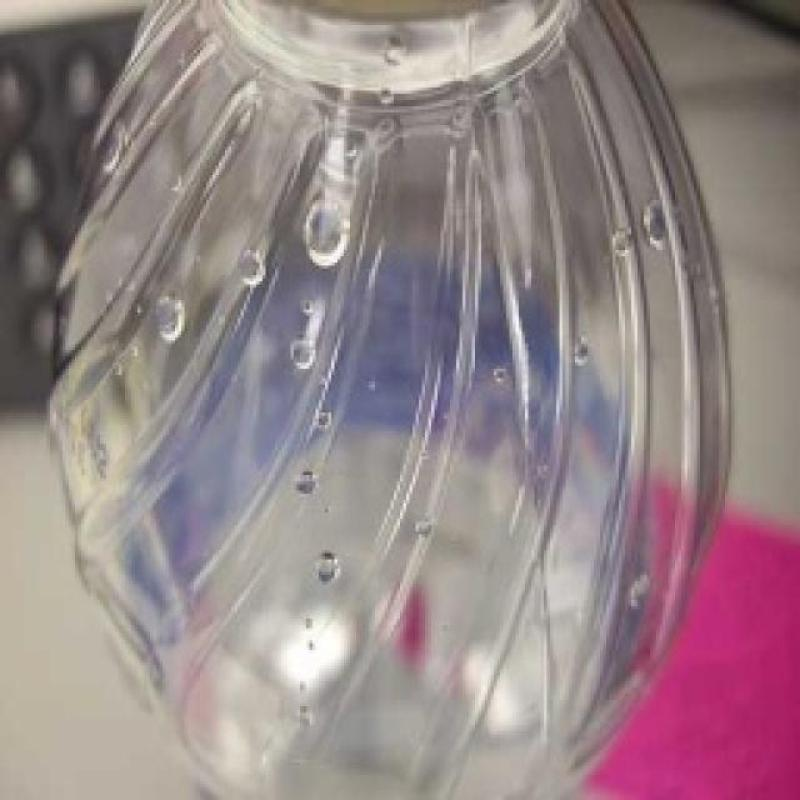botella: (51, 0, 739, 800)
